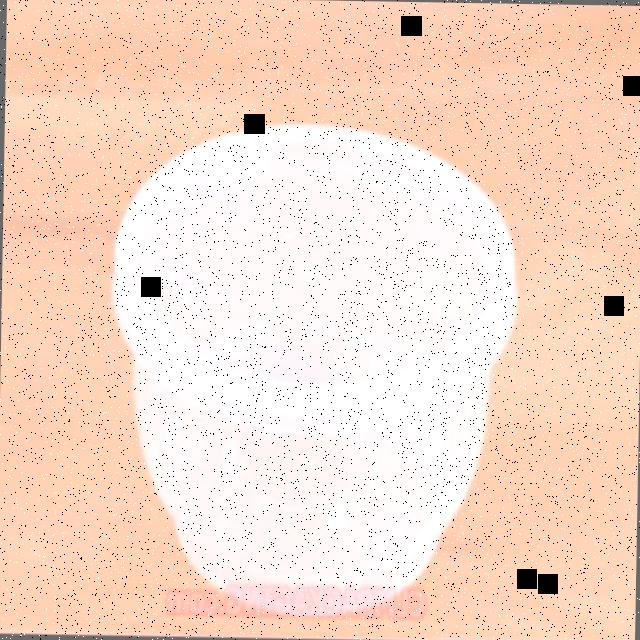plastic_box: (104, 120, 518, 612)
